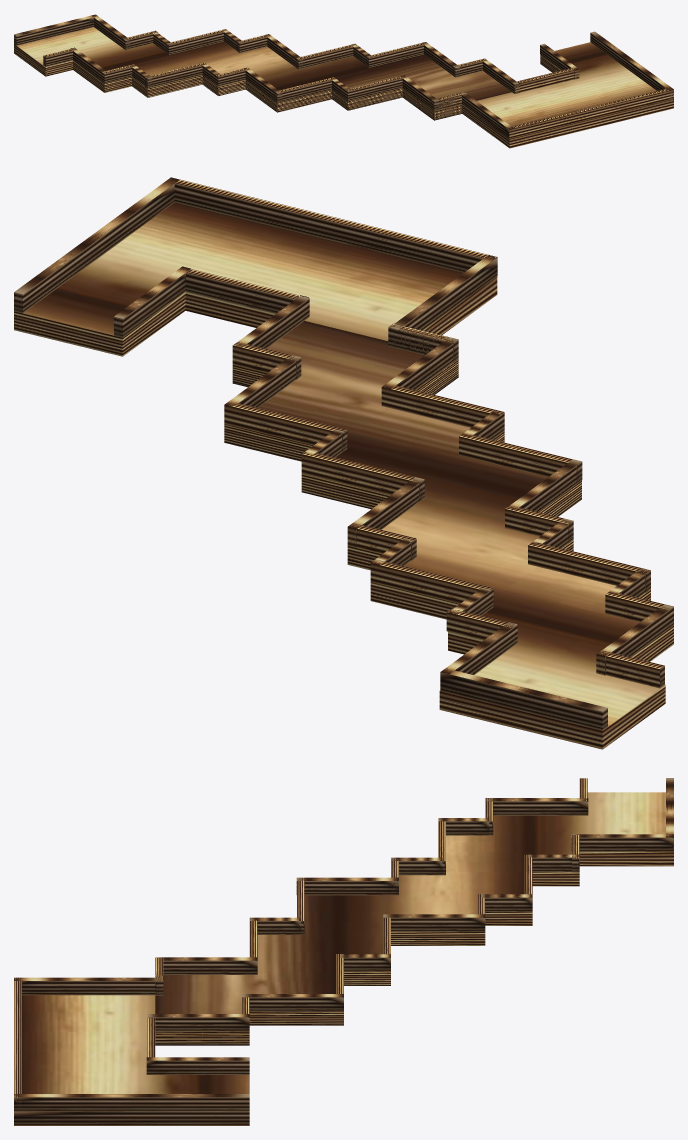
Rendered from R - Stairs 2.obj.
3 renders of one model, top to bottom at view 1: azimuth 30°, elevation 25°; view 2: azimuth 150°, elevation 25°; view 3: azimuth 270°, elevation 25°, orthographic. The views are drawn at different scales.
Visible parts, largest first — view 1: polySurface88; view 2: polySurface88; view 3: polySurface88.
Part boxes in pixels (x1,y1,x2,y2): polySurface88: (14,14,673,148); polySurface88: (14,177,673,749); polySurface88: (14,778,673,1125).
Bounding box in the file's own units: 3365 × 140 × 2940.
